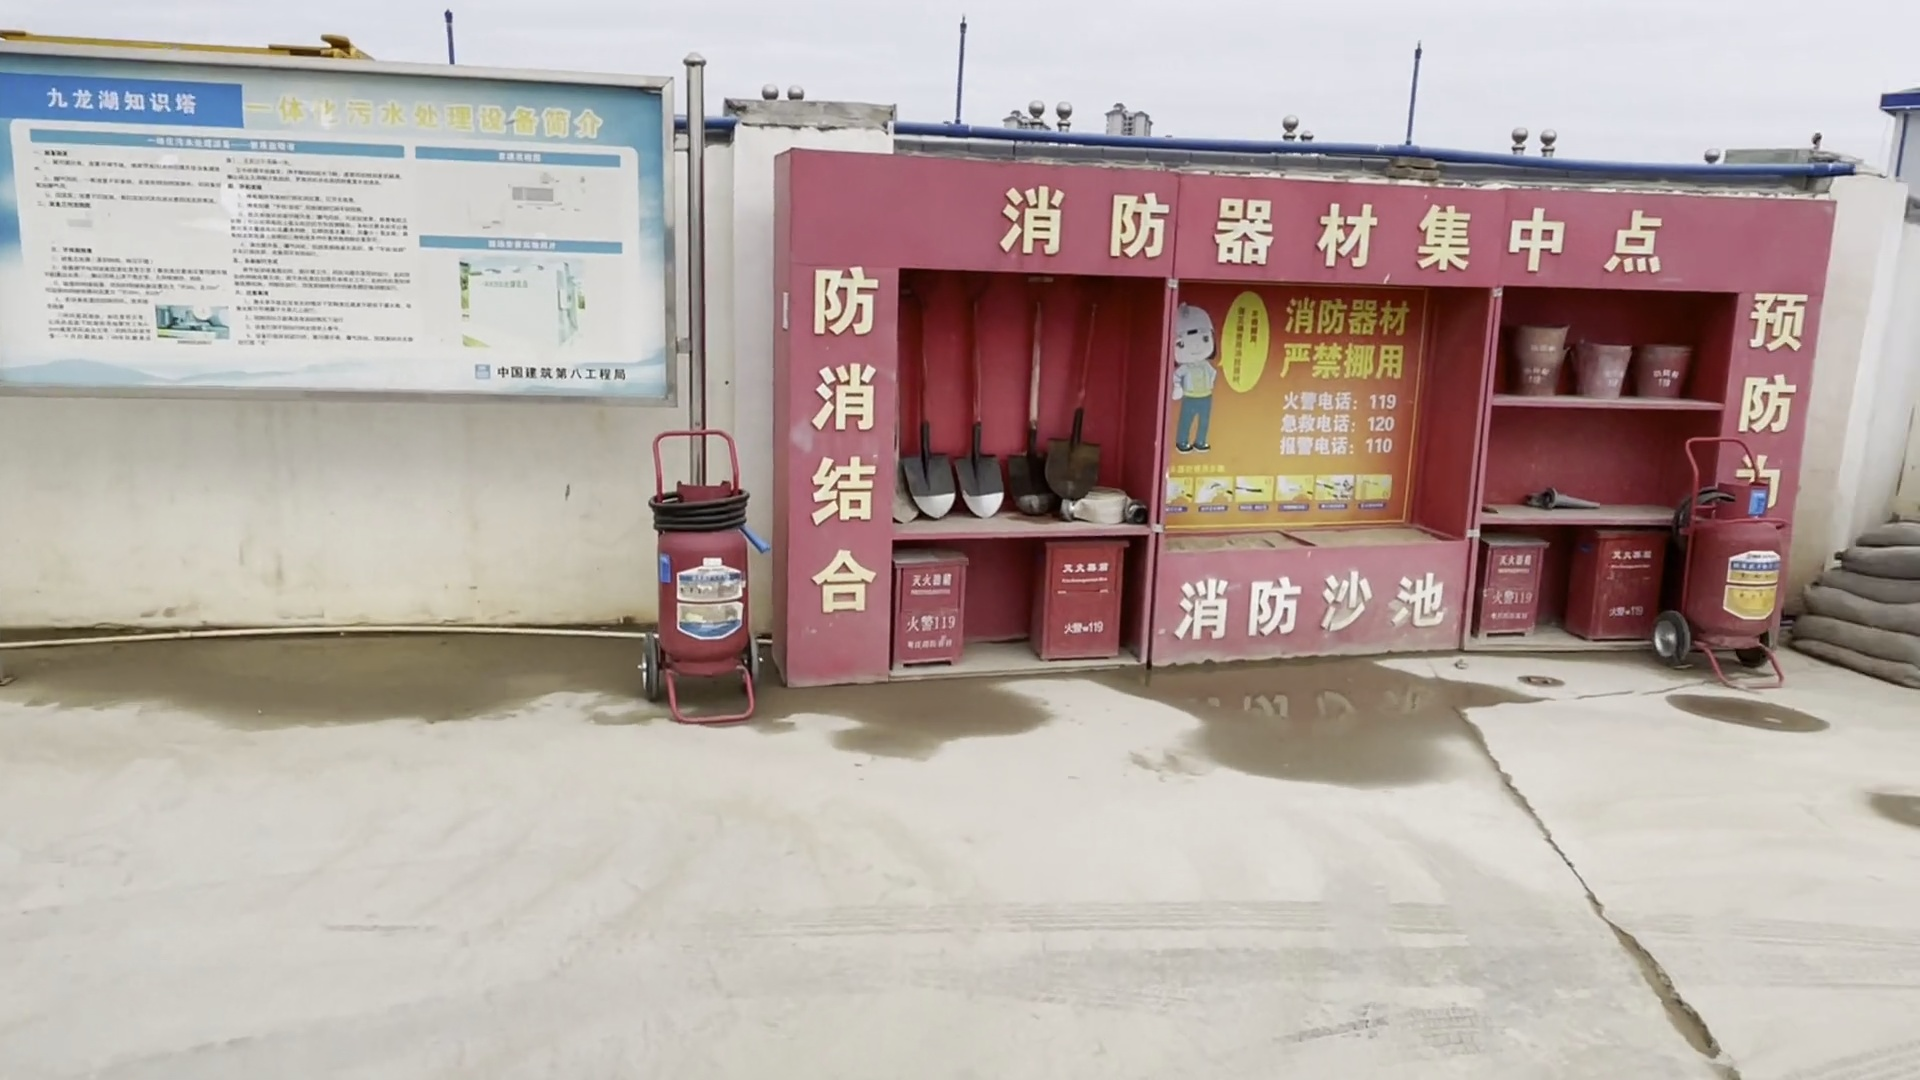slogan: (1175, 277, 1429, 533)
